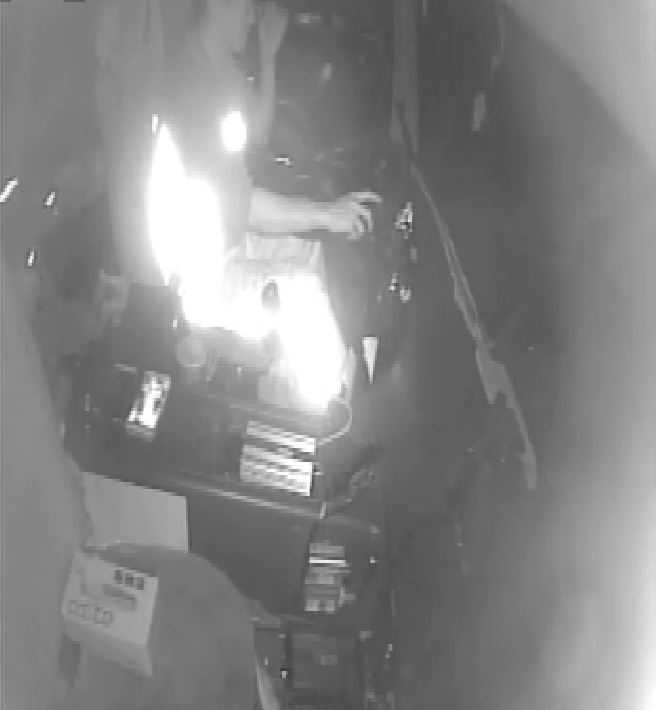cellphone: (121, 365, 177, 441)
